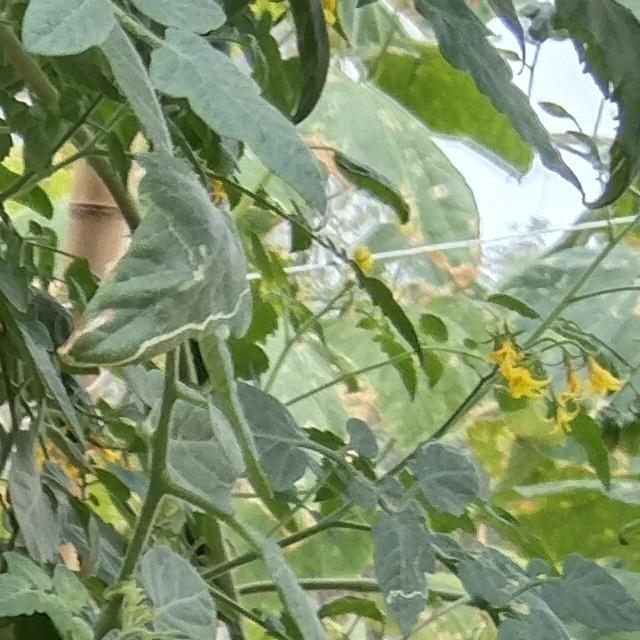Tomato healthy leaf: (146, 22, 332, 218)
Tomato target spot leaf: (51, 148, 260, 376), (367, 503, 432, 640)
